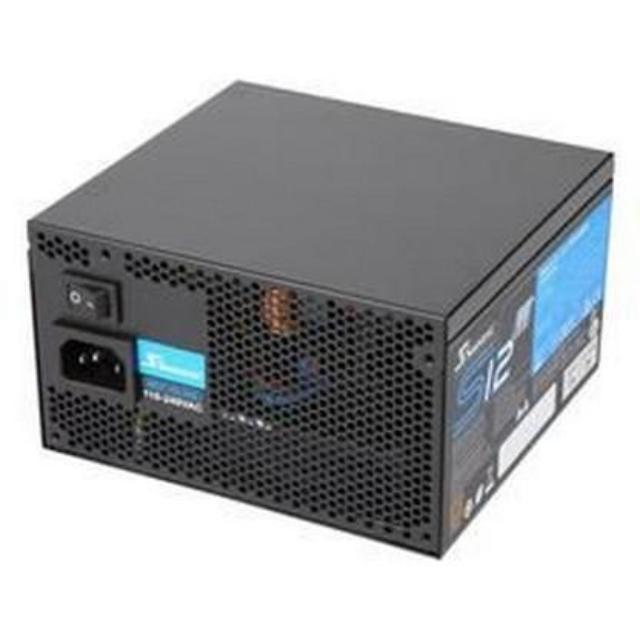PSU: (9, 69, 622, 563)
